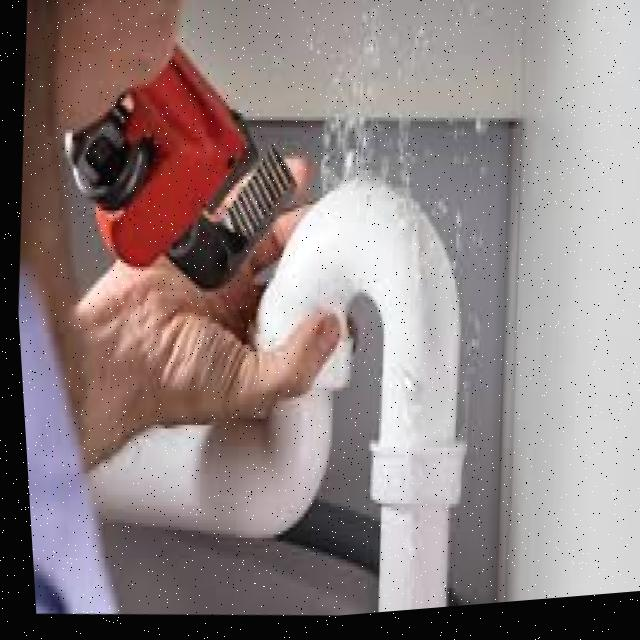corrosion: (312, 216, 494, 513)
